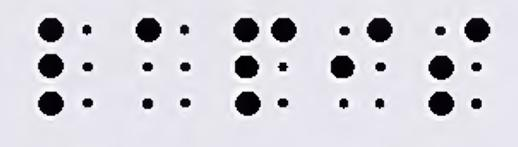letter_a: (134, 19, 194, 115)
letter_i: (331, 15, 390, 108)
letter_l: (36, 16, 96, 118)
letter_p: (230, 19, 295, 119)
letter_s: (426, 15, 490, 115)
